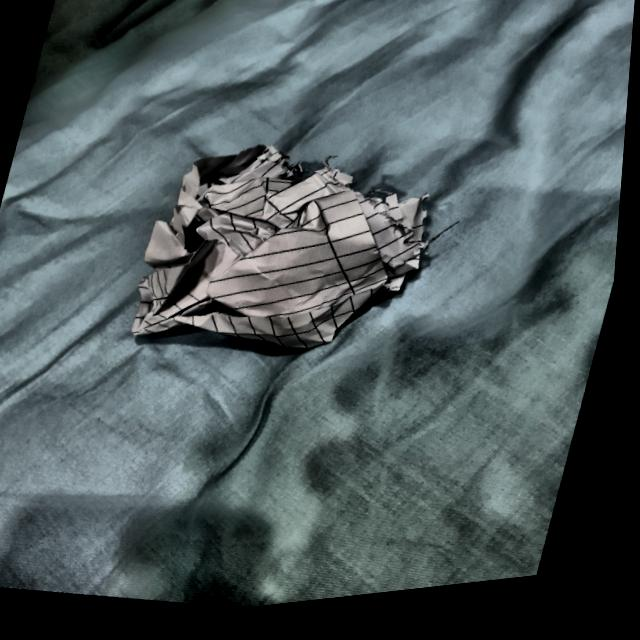Paper: (126, 129, 438, 389)
